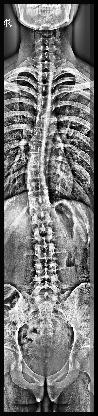Vertebrae: (32, 264, 60, 282), (32, 280, 60, 296), (30, 226, 56, 242), (33, 246, 59, 262), (30, 208, 54, 224), (28, 196, 52, 210), (26, 182, 49, 196), (26, 167, 48, 181), (28, 142, 48, 154), (27, 154, 46, 166), (37, 80, 53, 94), (38, 94, 52, 110), (36, 106, 52, 120), (34, 117, 50, 131), (31, 130, 49, 142)
